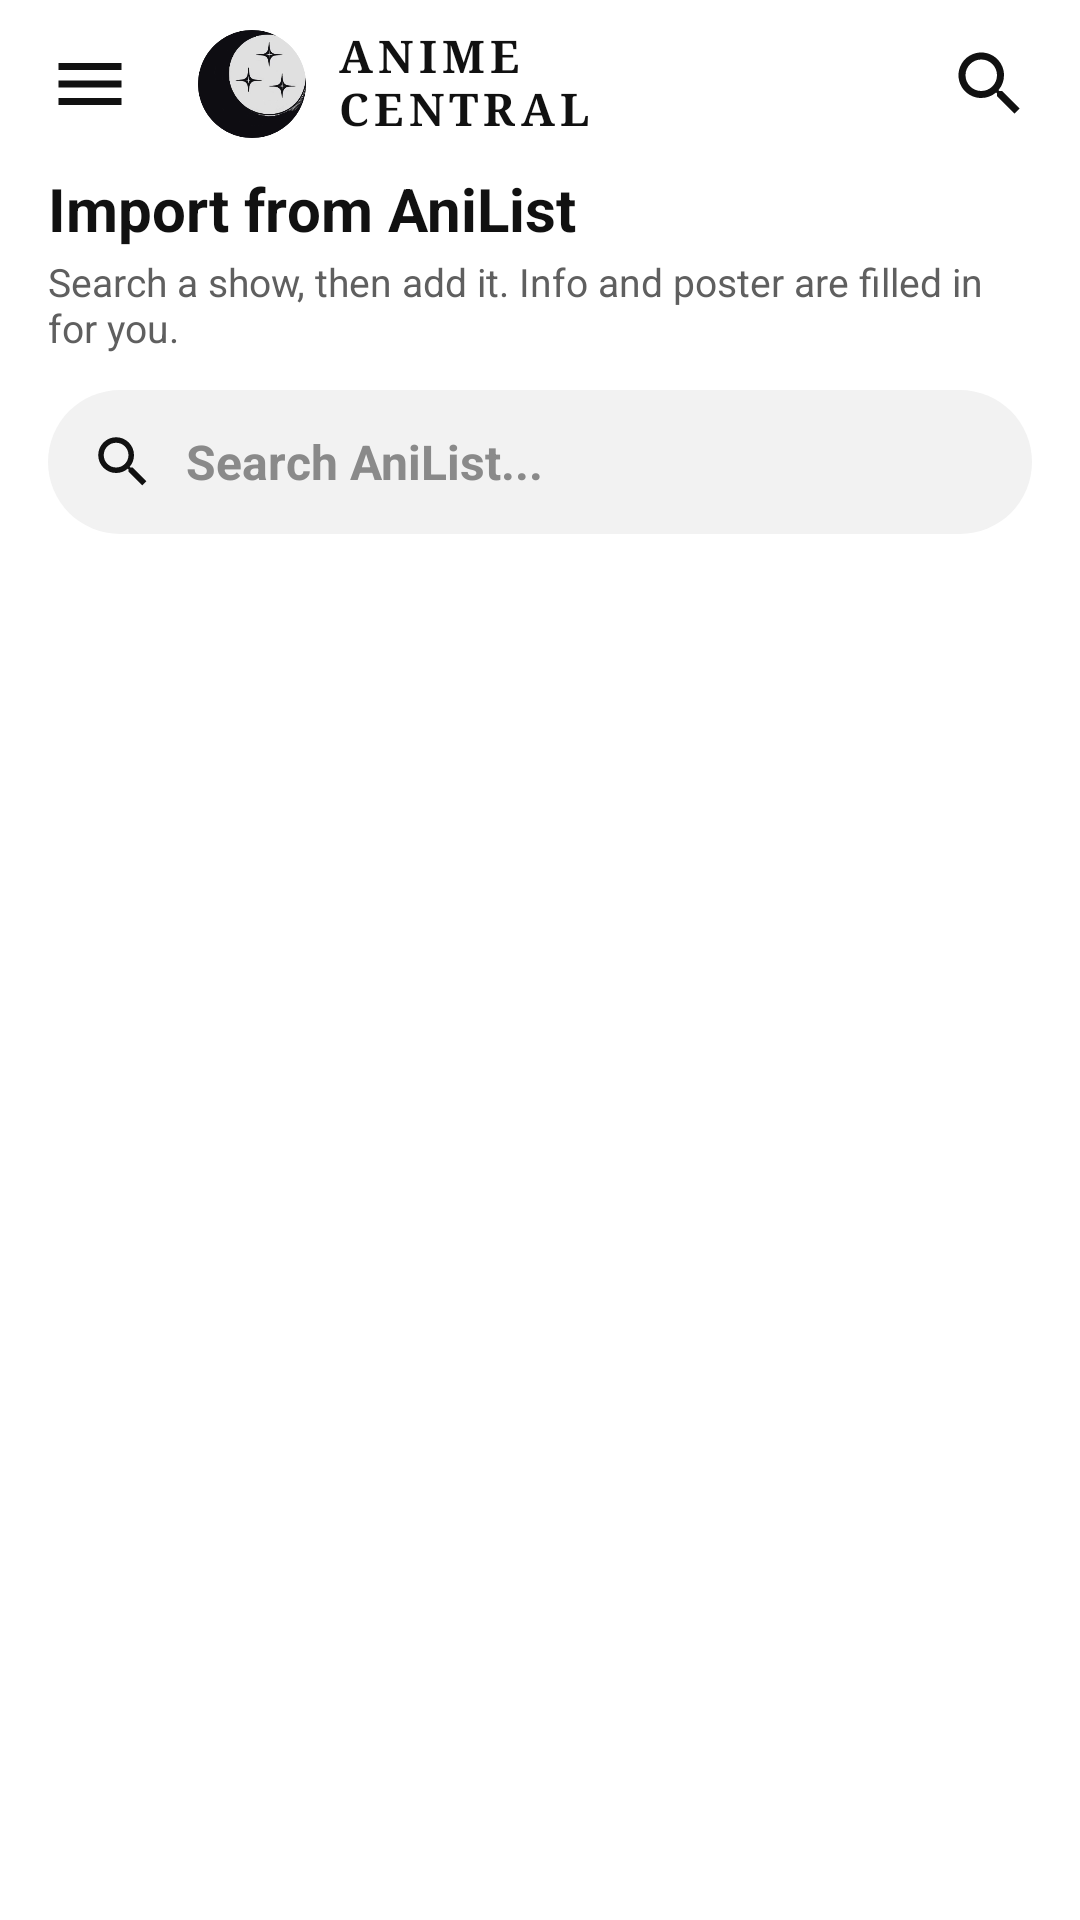

Where icons sit on this 1080px×1920px app screen, as (x1, y1, x2, y2):
Menu: (58, 63, 122, 105)
